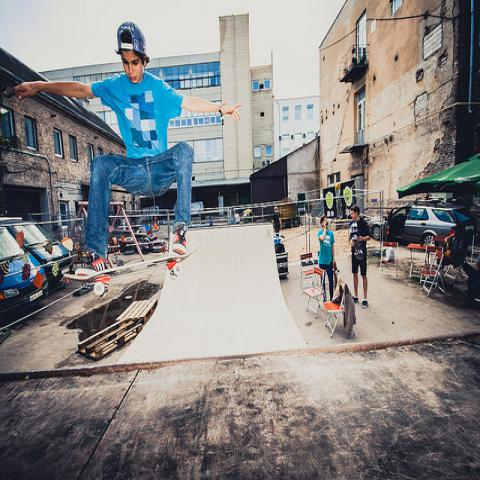car: (3, 220, 71, 290), (1, 218, 49, 314), (370, 203, 469, 248)
